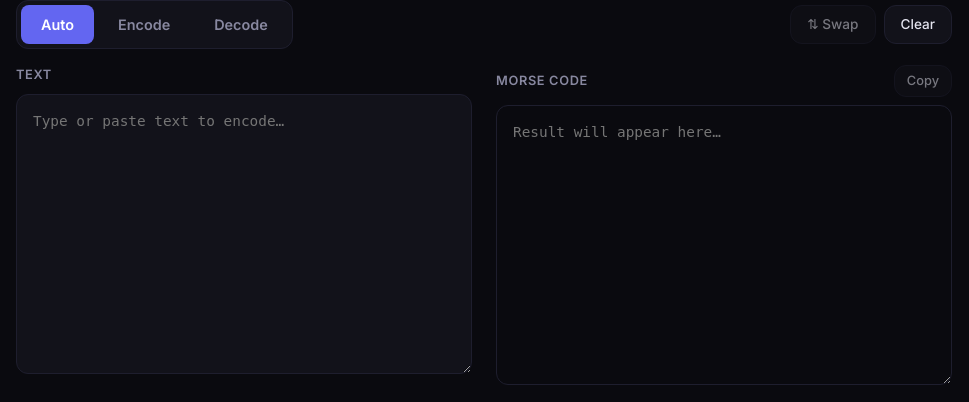
Test: MorseCodeTool auto-detect › encodes plain text to Morse code by default
In the text box labelled "Text": (244, 234) [16,94,472,374], type "SOS"
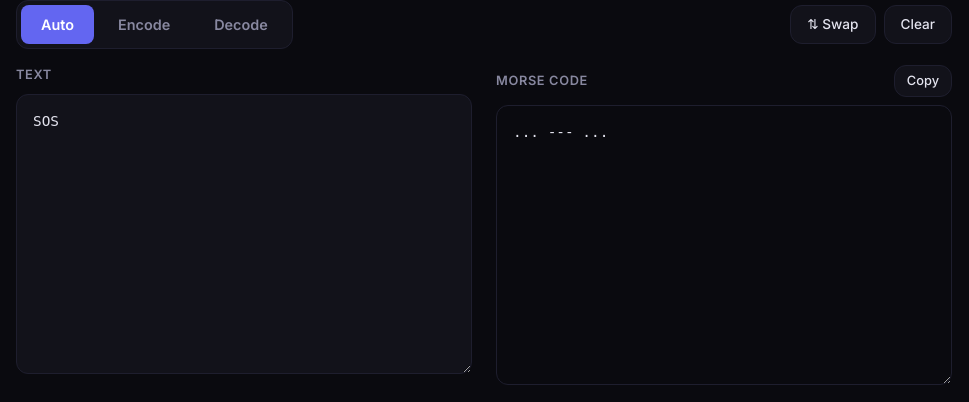
expect the text box labelled "Morse Code" holds "... --- ...": met, box [496,105,952,385]
